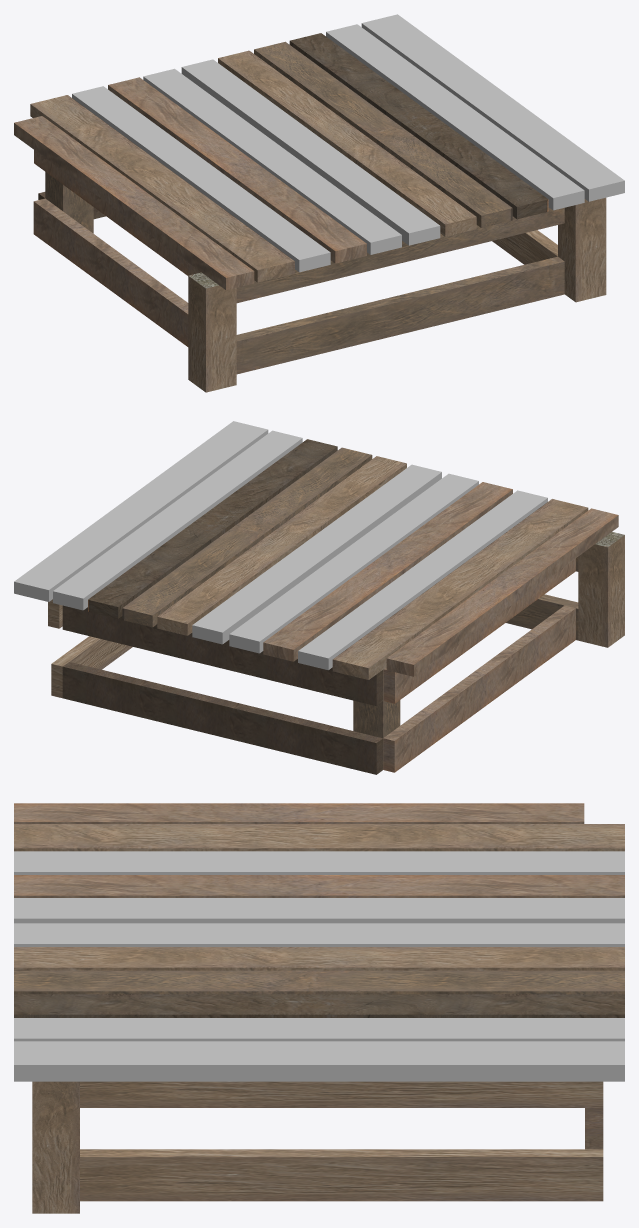
The model's file is WoodFloorHalfCrnerA.fbx.
3 renders of one model, top to bottom at view 1: azimuth 30°, elevation 25°; view 2: azimuth 150°, elevation 25°; view 3: azimuth 270°, elevation 25°, orthographic. The views are drawn at different scales.
Visible parts, largest first — view 1: WoodFloorHalfCrnerA; view 2: WoodFloorHalfCrnerA; view 3: WoodFloorHalfCrnerA.
Part boxes in pixels (x1,y1,x2,y2): WoodFloorHalfCrnerA: [14, 14, 624, 392]; WoodFloorHalfCrnerA: [14, 421, 624, 774]; WoodFloorHalfCrnerA: [14, 803, 624, 1213].
Bounding box in the file's own units: 210 × 56.6 × 200.
